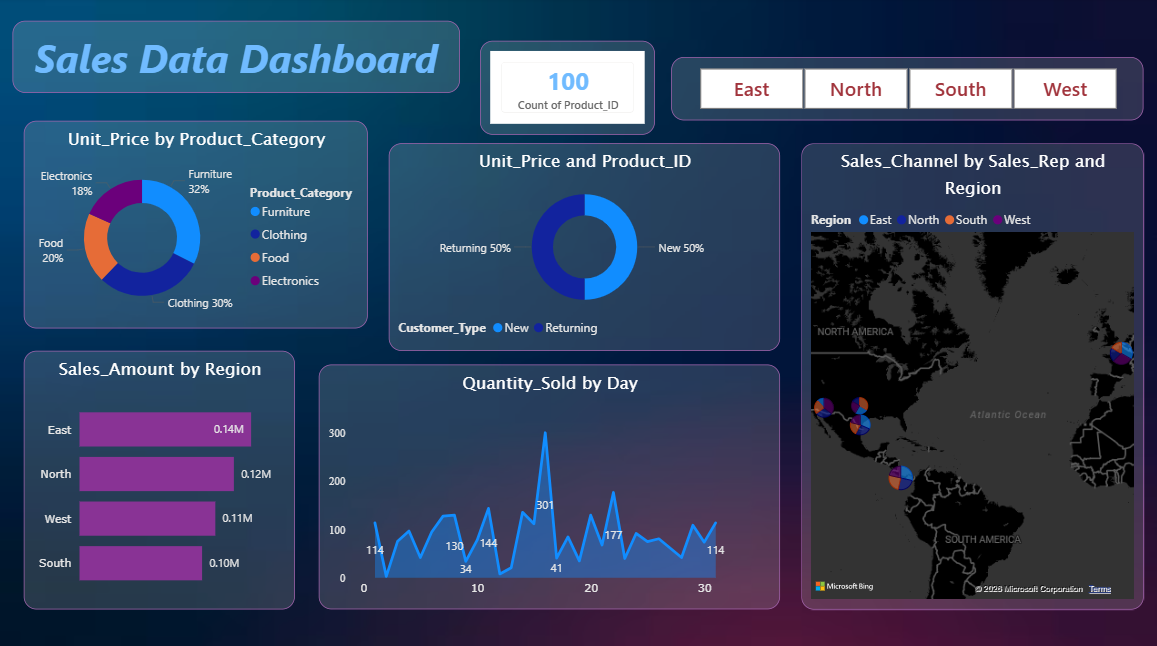

The page's visual inventory and layout, read from the dashboard file:
{"tool":"powerbi","page":{"name":"Page 1","canvas":[1280,720],"ordinal":0},"visuals":[{"type":"clusteredBarChart","title":"Sales_Amount by Region","fields":{"Category":["sales_data.Region"],"Y":["Sum(sales_data.Sales_Amount)"]},"box":[31.6,388.3,297.8,284],"z":0},{"type":"stackedAreaChart","title":"Quantity_Sold by Day","fields":{"Y":["Sum(sales_data.Quantity_Sold)"],"Category":["sales_data.Sale_Date.Variation.Date Hierarchy.Day"]},"box":[355.4,403.4,506.3,269],"z":1000},{"type":"map","title":"Sales_Channel by Sales_Rep and Region","fields":{"Series":["sales_data.Region"],"Category":["sales_data.Sales_Rep"],"Size":["CountNonNull(sales_data.Sales_Channel)"]},"box":[885.1,160.5,376,511.8],"z":2000},{"type":"donutChart","title":"Unit_Price by Product_Category","fields":{"Category":["sales_data.Product_Category"],"Y":["Sum(sales_data.Unit_Price)"]},"box":[31.6,135.8,377.4,227.8],"z":3000},{"type":"donutChart","title":"Unit_Price and Product_ID","fields":{"Category":["sales_data.Customer_Type"],"Y":["CountNonNull(sales_data.Product_ID)"]},"box":[432.2,160.5,429.5,227.8],"z":4000},{"type":"slicer","fields":{"Values":["sales_data.Region"]},"box":[742.4,65.9,518.7,70],"z":5000},{"type":"textbox","box":[19.2,26.1,491.3,79.6],"z":6000},{"type":"cardVisual","fields":{"Data":["CountNonNull(sales_data.Product_ID)"]},"box":[532.4,48,192.1,102.9],"z":7000}]}

Visuals, with their boxes in screenshot pixels (x1, y1, x2, y2), scaled from the page's 1280x720 canvas onto the 1157x646 screenshot:
"Sales_Amount by Region" clusteredBarChart: {"x1": 29, "y1": 348, "x2": 298, "y2": 603}
"Quantity_Sold by Day" stackedAreaChart: {"x1": 321, "y1": 362, "x2": 779, "y2": 603}
"Sales_Channel by Sales_Rep and Region" map: {"x1": 800, "y1": 144, "x2": 1140, "y2": 603}
"Unit_Price by Product_Category" donutChart: {"x1": 29, "y1": 122, "x2": 370, "y2": 326}
"Unit_Price and Product_ID" donutChart: {"x1": 391, "y1": 144, "x2": 779, "y2": 348}
slicer - sales_data.Region: {"x1": 671, "y1": 59, "x2": 1140, "y2": 122}
textbox: {"x1": 17, "y1": 23, "x2": 461, "y2": 95}
cardVisual - CountNonNull(sales_data.Product_ID): {"x1": 481, "y1": 43, "x2": 655, "y2": 135}
